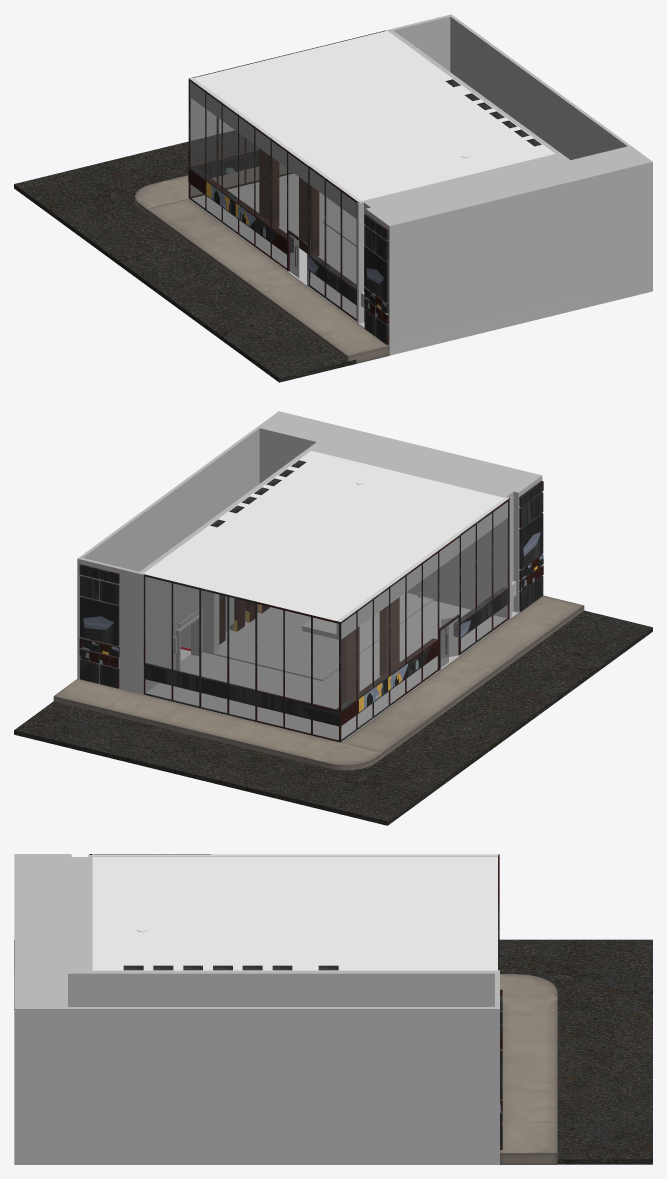
File: FullBuilding4.fbx
3 views of the same model, one above another, from view 1: azimuth 30°, elevation 25°; view 2: azimuth 150°, elevation 25°; view 3: azimuth 270°, elevation 25° (orthographic). The views are drawn at different scales.
Parts seen in each view (by area): view 1: Ceiling, Wall Right, Asphalt.001, Wall Left, Glass (plane version), Glass (plane version)InvNormals, Sidewalk Low, Floor, WindowBlock Low, Top Bar, Tile Low, Window Bars Horizontal (+5 smaller); view 2: Glass (plane version), Glass (plane version)InvNormals, Asphalt.001, Ceiling, Wall Left, Sidewalk Low, Wall Right, Floor, Upstep Carpet, WindowBlock Low, Tile Low2, Top Bar (+9 smaller); view 3: Wall Left, Ceiling, Asphalt.001, Sidewalk Low, Wall Right, Top Bar, Deco Pillar 2, Tile Low2.
Boxes of the visible parts, <box> form: Ceiling: <box>190,30,555,200</box>; Wall Right: <box>357,154,586,345</box>; Asphalt.001: <box>14,130,356,382</box>; Wall Left: <box>387,14,652,307</box>; Glass (plane version): <box>190,81,356,318</box>; Glass (plane version)InvNormals: <box>190,82,355,318</box>; Sidewalk Low: <box>135,163,389,365</box>; Floor: <box>188,173,587,355</box>; WindowBlock Low: <box>188,151,356,304</box>; Top Bar: <box>190,77,361,218</box>; Tile Low: <box>364,214,388,344</box>; Window Bars Horizontal: <box>188,30,386,321</box>; Glass (plane version): <box>145,502,507,740</box>; Glass (plane version)InvNormals: <box>146,502,507,739</box>; Asphalt.001: <box>14,610,652,825</box>; Ceiling: <box>143,450,504,621</box>; Wall Left: <box>77,411,344,694</box>; Sidewalk Low: <box>53,595,584,770</box>; Wall Right: <box>313,427,542,618</box>; Floor: <box>144,600,519,742</box>; Upstep Carpet: <box>214,593,433,681</box>; WindowBlock Low: <box>143,587,509,725</box>; Tile Low2: <box>79,564,119,688</box>; Top Bar: <box>302,497,508,639</box>; Wall Left: <box>14,970,499,1164</box>; Ceiling: <box>92,857,498,970</box>; Asphalt.001: <box>14,939,652,1164</box>; Sidewalk Low: <box>14,974,557,1164</box>; Wall Right: <box>14,854,92,969</box>; Top Bar: <box>92,854,498,856</box>; Deco Pillar 2: <box>123,965,292,970</box>; Tile Low2: <box>500,989,502,1149</box>.
Bounding box in the file's own units: 8156 × 2715 × 10025.
